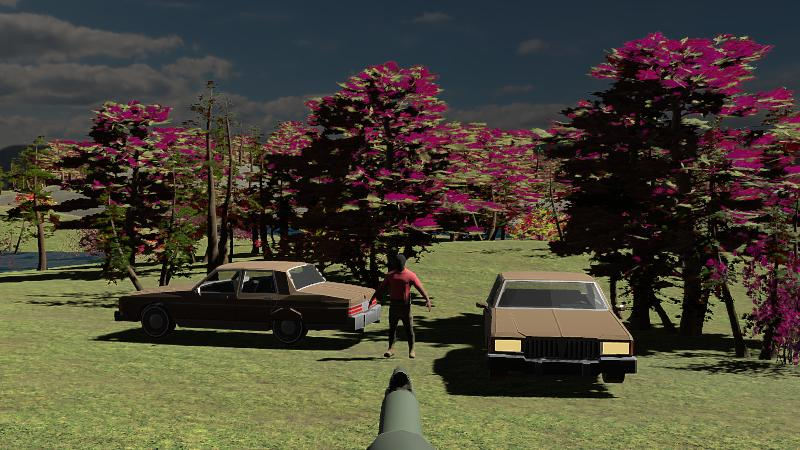Human: (377, 253, 430, 359)
car: (113, 259, 381, 345), (476, 271, 638, 383)
